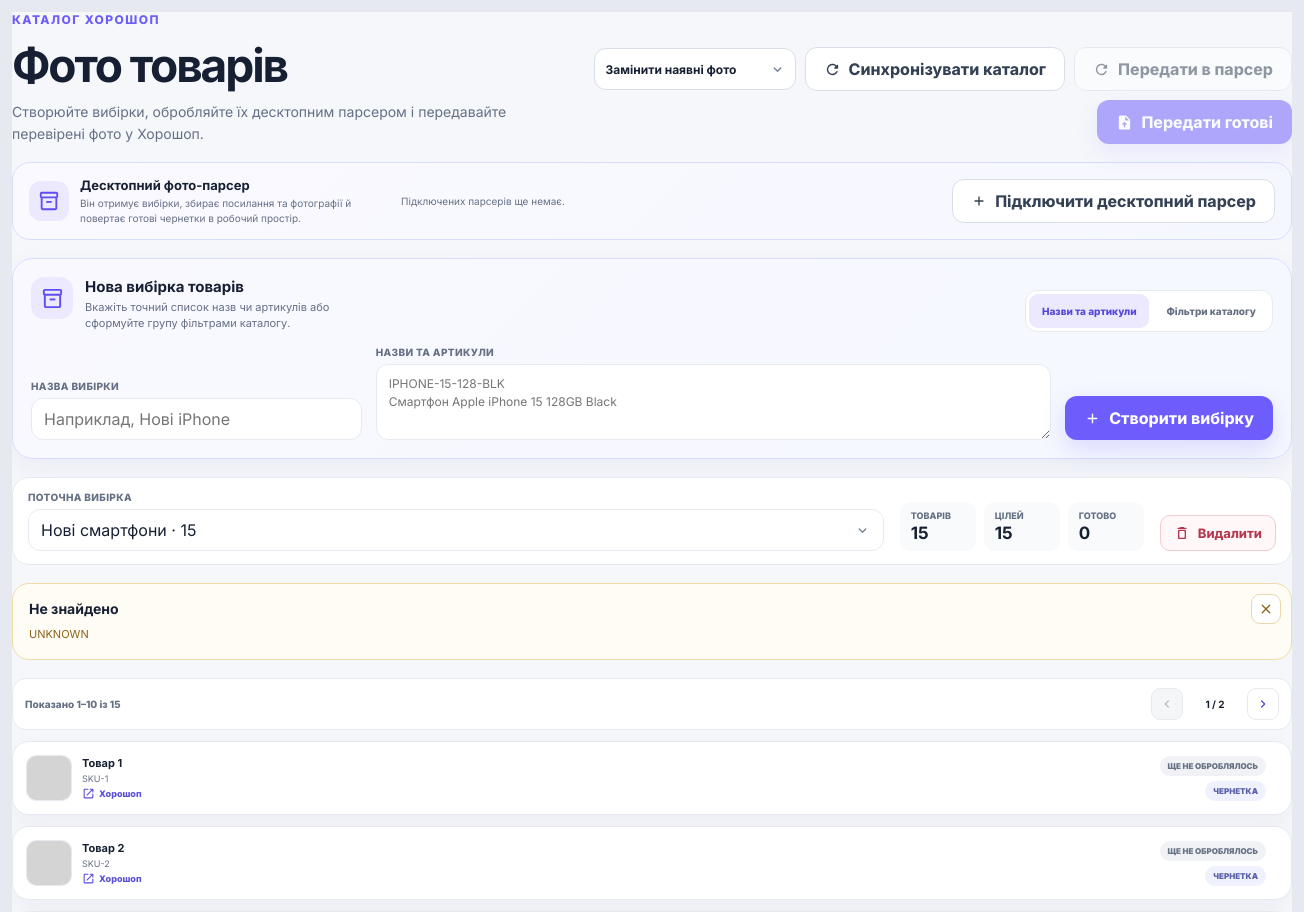
Test: HoroshopPhotoParserPage › paginates a large selection so only ten product cards are mounted at once
This screenshot has width=1304, height=912.
Expected: the text "Товар 1" is shown, [82,756,122,770]
Expected: the text "Товар 11" is not shown
Click the button named "Наступні товари". click: click(1263, 704)
box: [1247,688,1279,720]
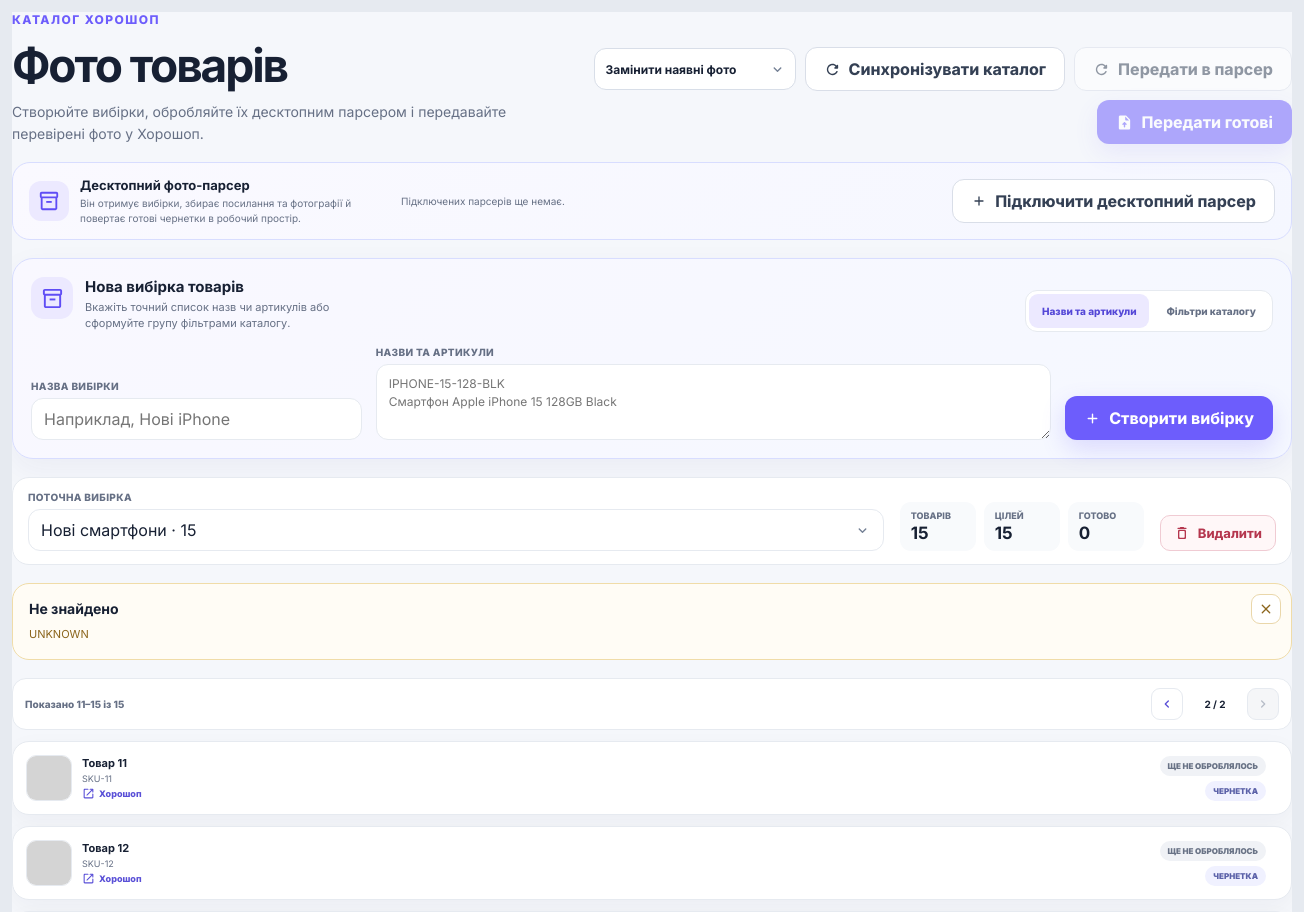
Expected: the number of elements with class "horoshop-photo-target" is 5
Expected: the text "Товар 11" is shown, [82,756,127,770]
